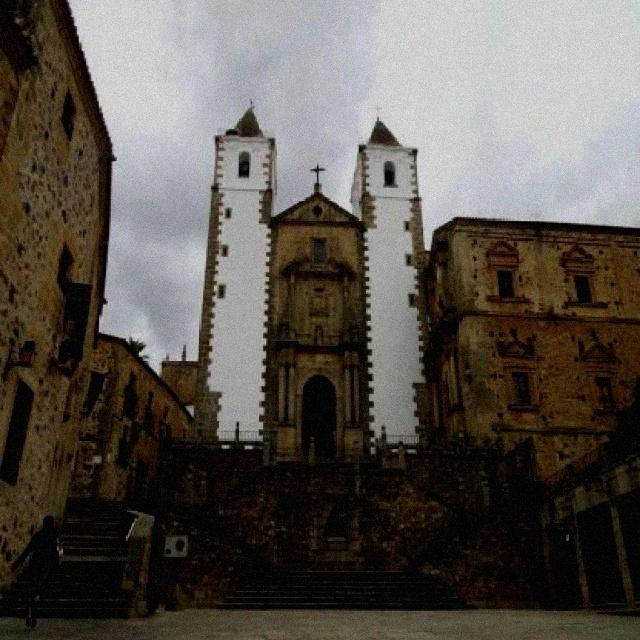stair: (0, 494, 148, 622), (216, 563, 477, 617), (186, 503, 274, 566), (402, 508, 491, 570)
